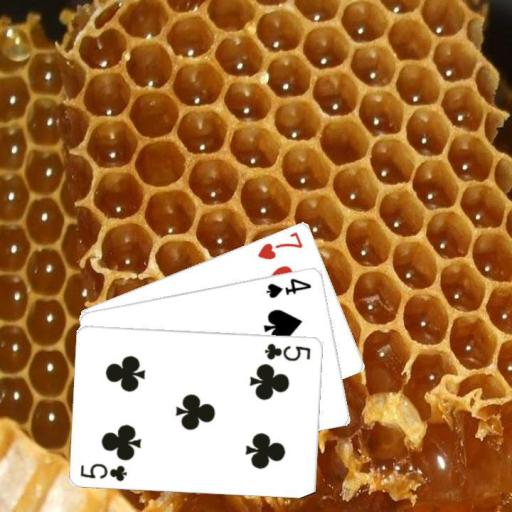4S: (263, 275, 313, 300)
5C: (78, 459, 130, 483), (262, 340, 313, 362)
7H: (254, 228, 305, 261)
